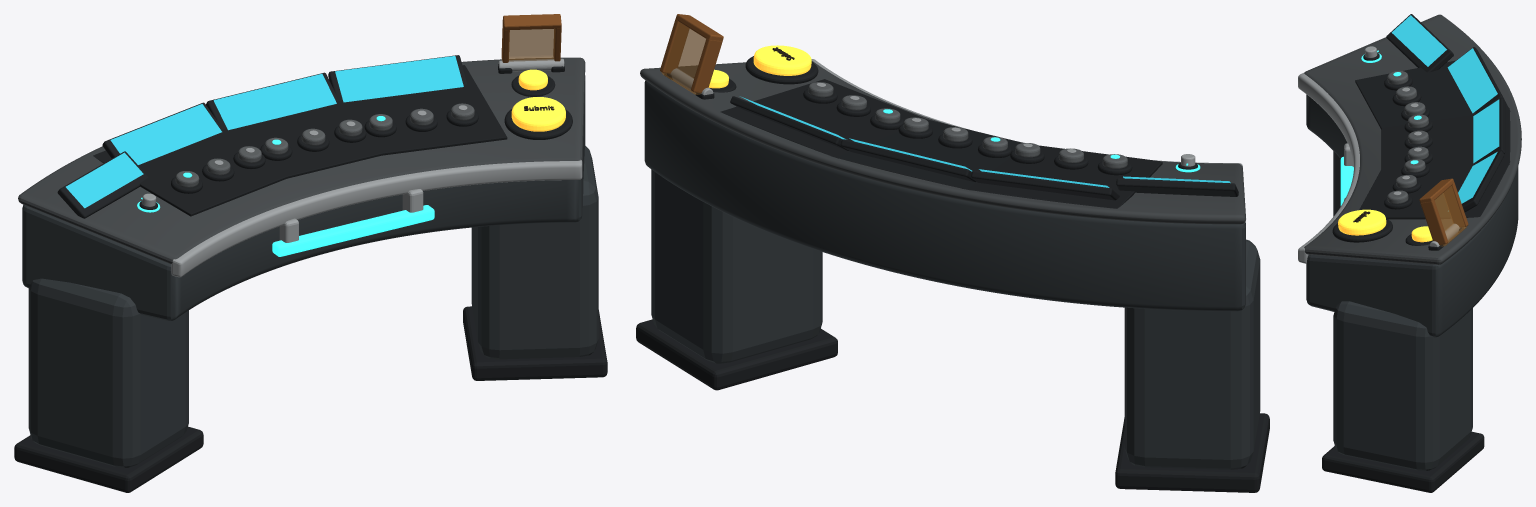
File: mission-control-workbench.glb
3 views of the same model, side by side, from view 1: azimuth 30°, elevation 25°; view 2: azimuth 150°, elevation 25°; view 3: azimuth 270°, elevation 25° (orthographic). The views are drawn at different scales.
Visible parts, largest first — view 1: Pedestal_Left, Workbench_Continuous_Body, Workbench_Continuous_Deck, Pedestal_Right, Workbench_Front_Trim, Radio_Group_03_Inset, Radio_Group_01_Inset, Radio_Group_02_Inset, Pedestal_Left_Foot, Screen_Group_03, Pedestal_Right_Foot, Screen_Group_02 (+9 smaller); view 2: Workbench_Continuous_Body, Pedestal_Right, Pedestal_Left, Workbench_Continuous_Deck, Radio_Group_03_Inset, Pedestal_Right_Foot, Pedestal_Left_Foot, Radio_Group_01_Inset, Radio_Group_02_Inset, Screen_Group_01_Frame, Guard_Cover_Clear_Shell, Screen_Knob_Frame (+6 smaller); view 3: Pedestal_Right, Workbench_Continuous_Body, Workbench_Continuous_Deck, Radio_Group_01_Inset, Radio_Group_02_Inset, Pedestal_Right_Foot, Radio_Group_03_Inset, Workbench_Front_Trim, Screen_Group_01, Screen_Knob, Screen_Group_02, Button_Submit_Cap (+13 smaller).
Boxes of the visible parts, x1,y1,x2,y2 form: Pedestal_Left: [28, 278, 188, 467]; Workbench_Continuous_Body: [22, 75, 585, 320]; Workbench_Continuous_Deck: [18, 57, 585, 263]; Pedestal_Right: [471, 145, 598, 359]; Workbench_Front_Trim: [171, 160, 582, 277]; Radio_Group_03_Inset: [339, 65, 507, 155]; Radio_Group_01_Inset: [93, 129, 286, 216]; Radio_Group_02_Inset: [223, 101, 381, 178]; Pedestal_Left_Foot: [14, 426, 203, 492]; Screen_Group_03: [335, 56, 463, 102]; Pedestal_Right_Foot: [463, 306, 607, 380]; Screen_Group_02: [213, 74, 336, 130]; Workbench_Continuous_Body: [644, 80, 1245, 311]; Pedestal_Right: [651, 169, 822, 363]; Pedestal_Left: [1124, 239, 1260, 469]; Workbench_Continuous_Deck: [640, 61, 1245, 224]; Radio_Group_03_Inset: [720, 79, 926, 158]; Pedestal_Right_Foot: [636, 319, 837, 390]; Pedestal_Left_Foot: [1115, 413, 1269, 492]; Radio_Group_01_Inset: [962, 145, 1162, 208]; Radio_Group_02_Inset: [831, 119, 1022, 190]; Screen_Group_01_Frame: [971, 170, 1119, 200]; Guard_Cover_Clear_Shell: [661, 22, 705, 94]; Screen_Knob_Frame: [1116, 178, 1238, 196]; Pedestal_Right: [1333, 301, 1472, 470]; Workbench_Continuous_Body: [1306, 94, 1518, 337]; Workbench_Continuous_Deck: [1304, 14, 1521, 264]; Radio_Group_01_Inset: [1355, 60, 1510, 129]; Radio_Group_02_Inset: [1381, 108, 1510, 168]; Pedestal_Right_Foot: [1322, 431, 1484, 492]; Radio_Group_03_Inset: [1359, 161, 1510, 219]; Workbench_Front_Trim: [1298, 73, 1359, 263]; Screen_Group_01: [1447, 48, 1497, 113]; Screen_Knob: [1391, 15, 1446, 66]; Screen_Group_02: [1473, 99, 1499, 163]; Button_Submit_Cap: [1338, 209, 1386, 235].
Bounding box in the file's own units: 2.67 × 1.38 × 1.
